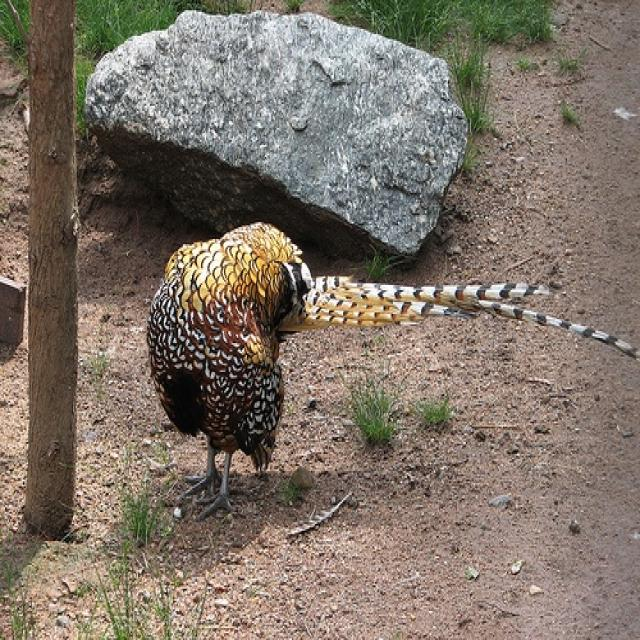bird: (145, 218, 638, 520)
